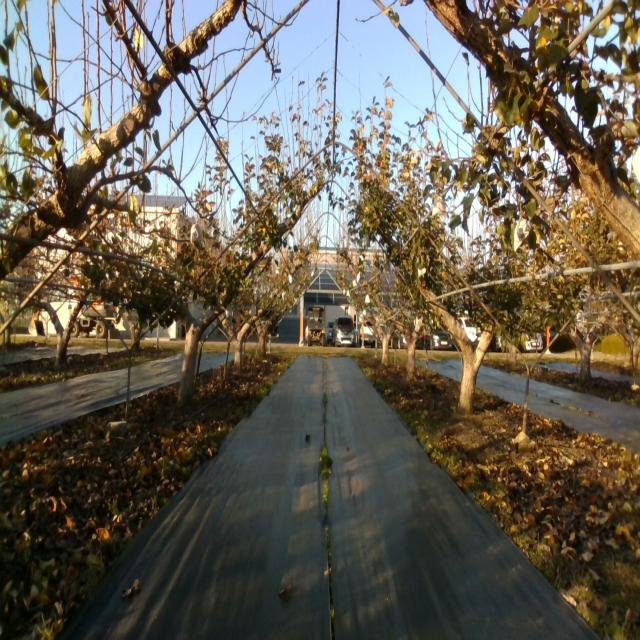pearbags: (513, 219, 532, 252), (190, 216, 202, 250), (432, 196, 446, 219)
